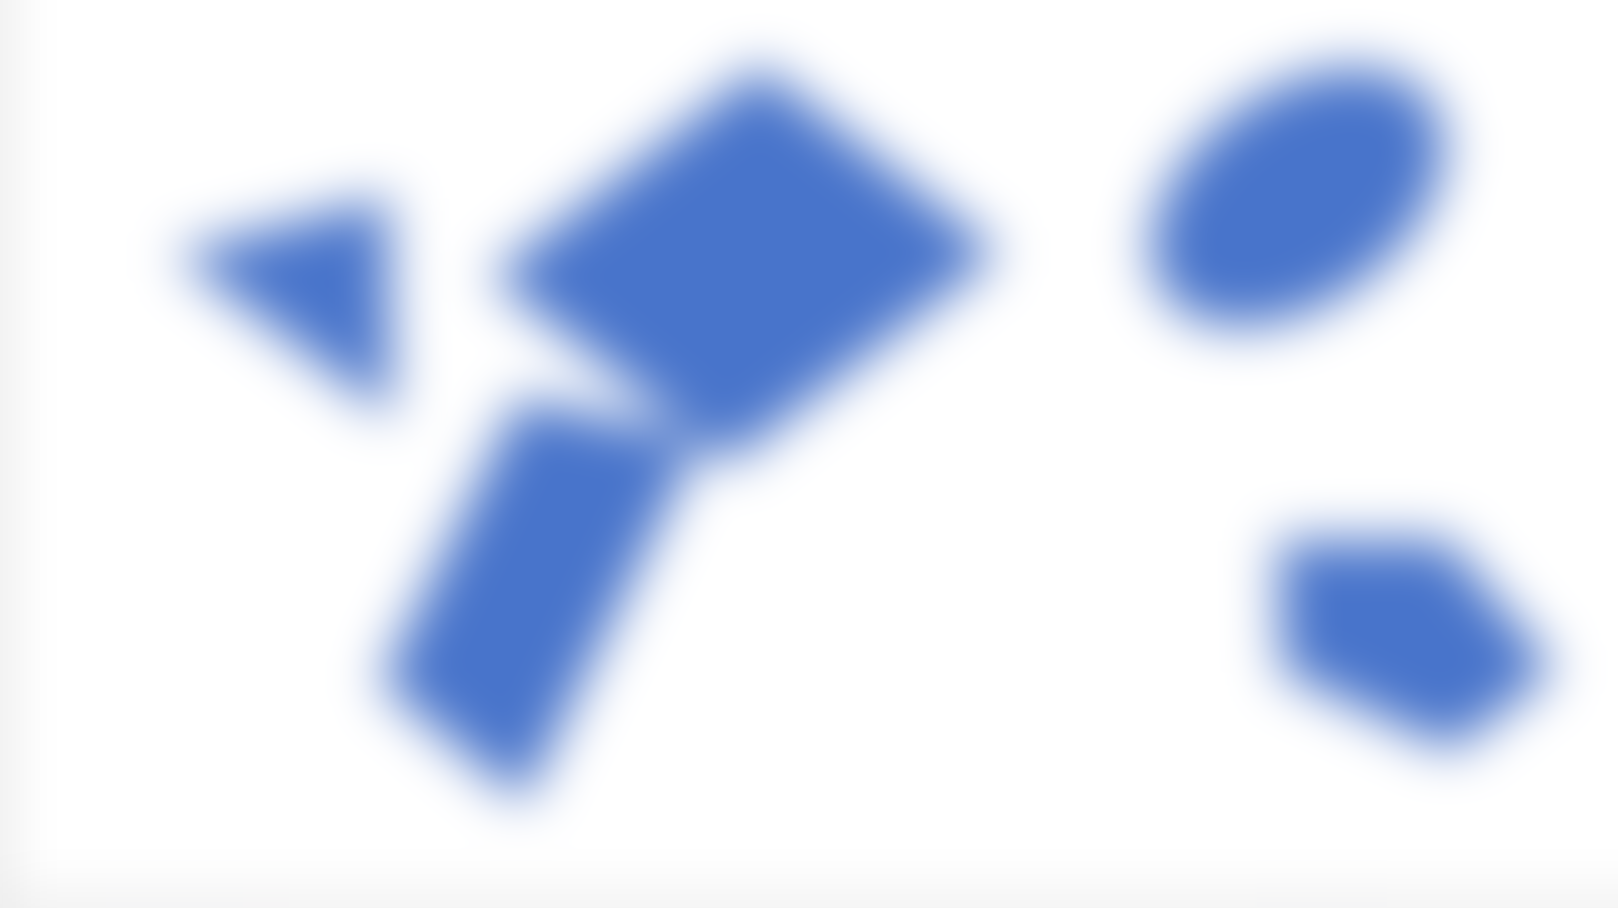circle: (1123, 39, 1460, 345)
parallelogram: (473, 48, 1033, 458)
pentagon: (1235, 498, 1596, 780)
trapezium: (386, 391, 676, 795)
triangle: (186, 172, 438, 395)
